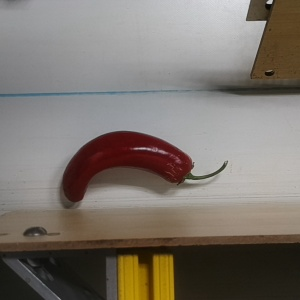Cut Point: (168, 152, 197, 189)
